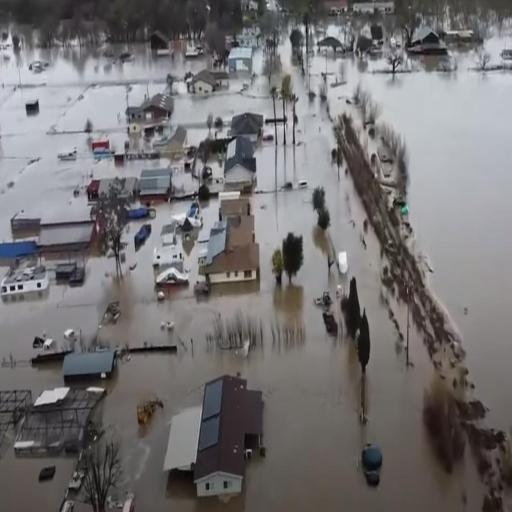flood: (0, 81, 488, 510), (336, 49, 512, 430), (1, 42, 183, 241), (172, 73, 273, 143), (303, 11, 395, 80), (0, 445, 76, 511), (271, 15, 302, 85), (197, 198, 218, 239), (486, 32, 512, 61), (172, 162, 194, 192), (253, 38, 268, 81), (328, 46, 345, 69), (333, 59, 341, 71)
house: (196, 369, 261, 503), (202, 192, 260, 289), (1, 245, 49, 300), (225, 113, 265, 174), (126, 93, 176, 131), (136, 164, 175, 202), (409, 18, 445, 56), (88, 132, 126, 158), (187, 67, 217, 98), (228, 44, 253, 74), (153, 245, 186, 265), (161, 220, 178, 244)
